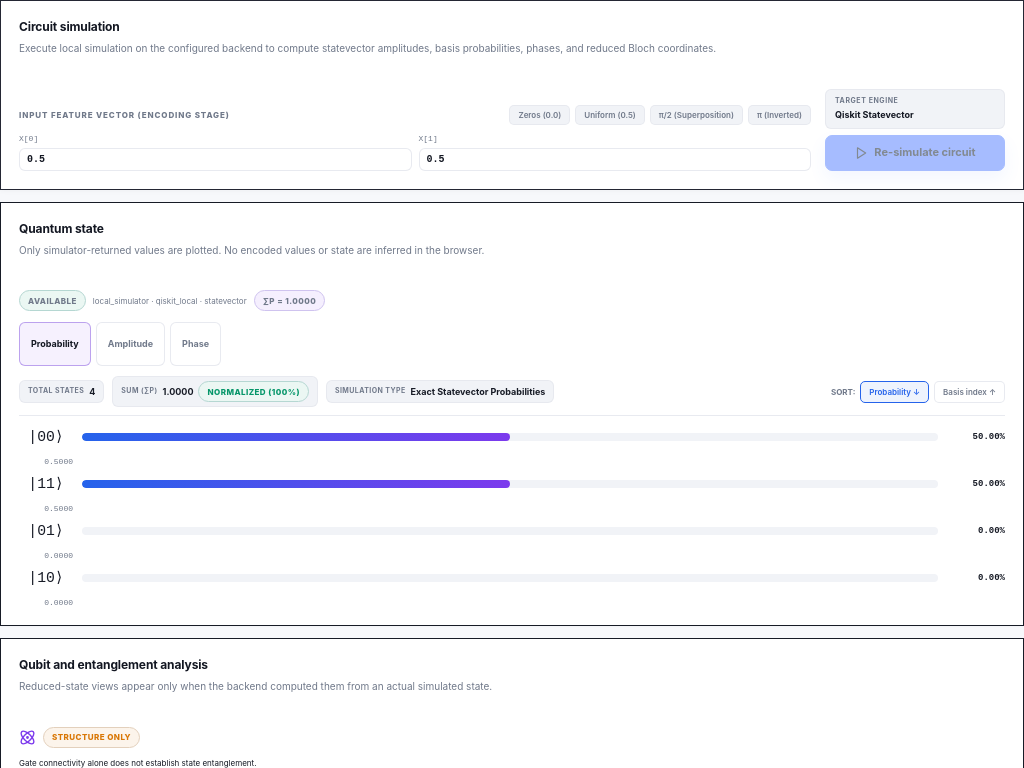
QuantumStatePanel Component › renders probability distribution with sorting and normalization check
Expected: the text "50.00%" is shown 2 times, [973,432,1005,442]; [973,479,1005,489]
Expected: the text "|00⟩" is shown, [28,429,64,445]
// Toggle sorting
Click the button "Basis index ↑" at x=970, y=392, box [934,380,1005,402]
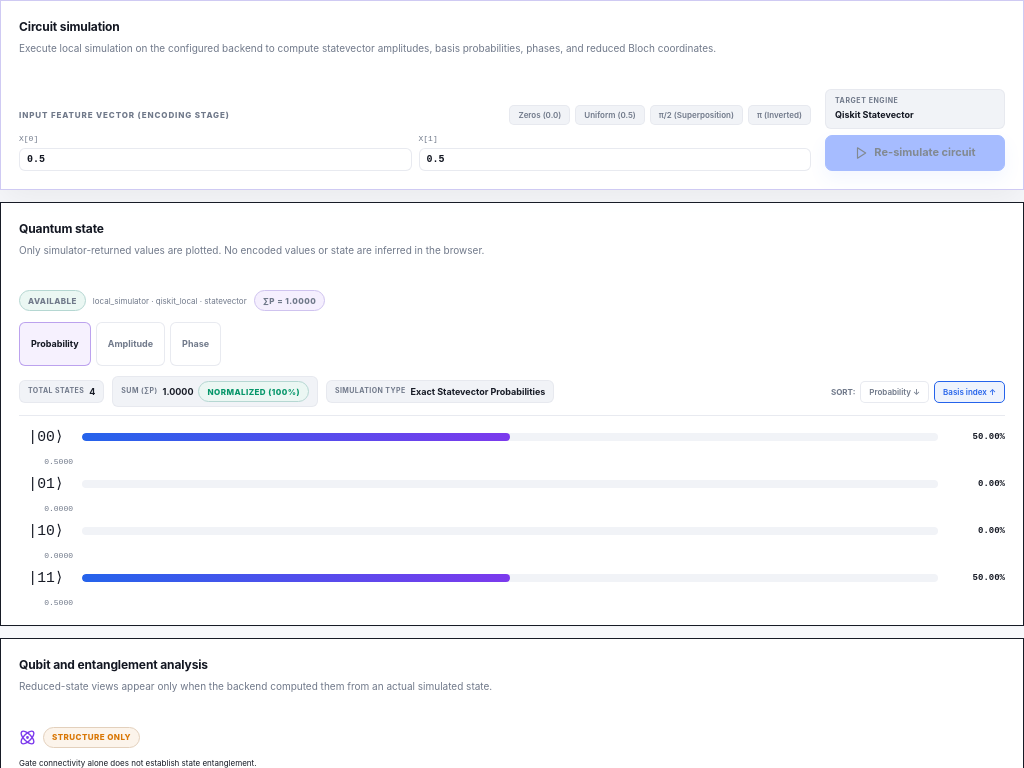
Expected: the button "Basis index ↑" has class "is-active", [934,380,1005,402]
// Selecting a basis state opens the inspector details
Click the list item "|00⟩" at x=46, y=437, box [19,426,1005,466]
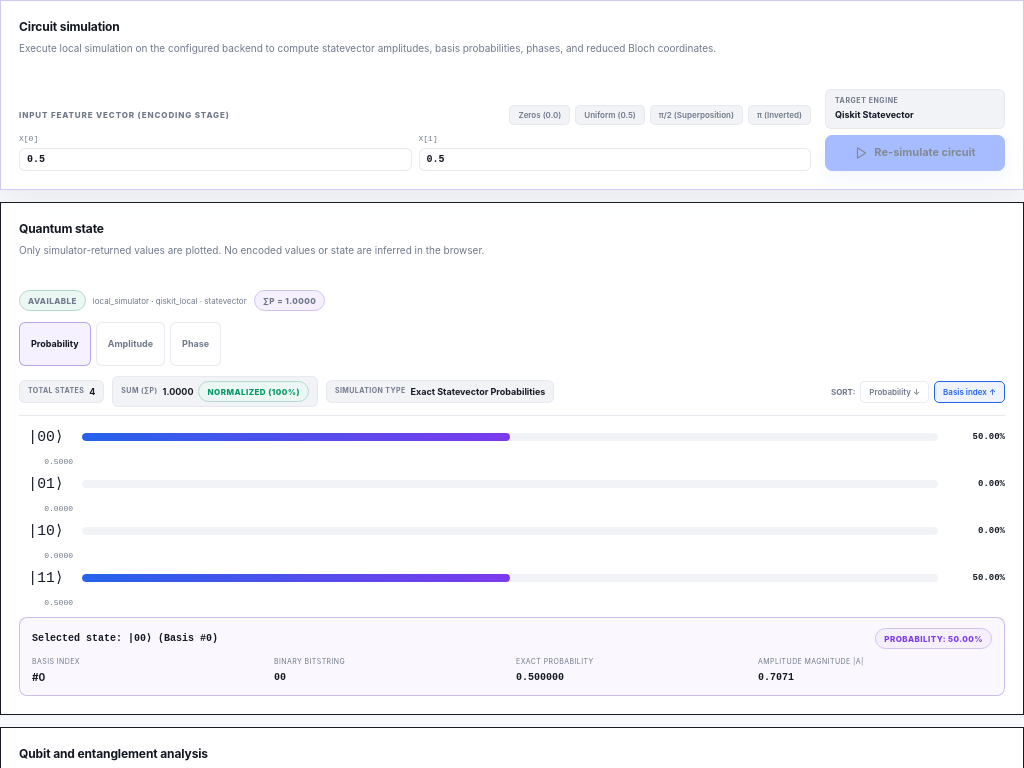
Expected: the element named "Selected basis state details" is shown, [19,617,1005,696]
Expected: the text "Selected state: |00⟩ (Basis #0)" is shown, [32,631,218,646]
